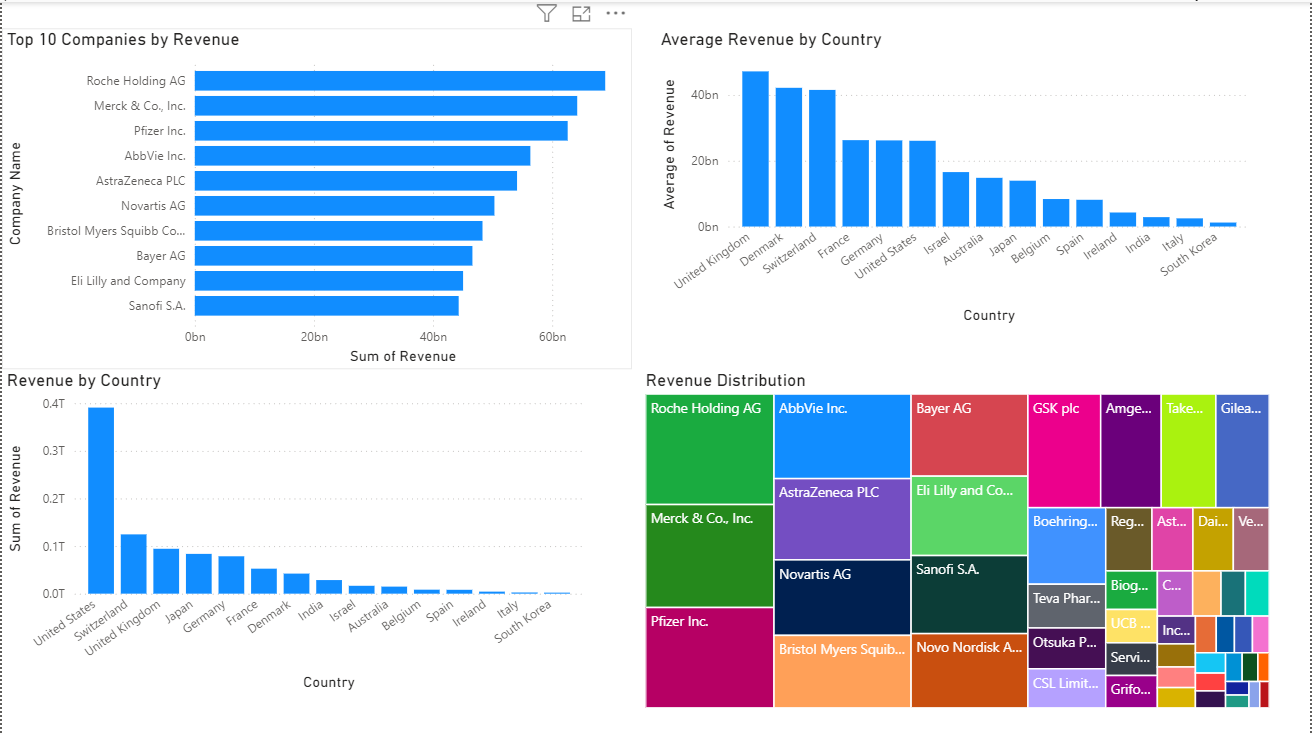

What the dashboard file says about the page in this screenshot:
{"tool":"powerbi","page":{"name":"Revenue Analysis","canvas":[1280,720],"ordinal":1},"visuals":[{"type":"columnChart","title":"Revenue by Country","fields":{"Category":["Validated_PCMRT_Main_Dataset.Country"],"Y":["Sum(Validated_PCMRT_Main_Dataset.Revenue)"]},"box":[0,360.1,573.9,319.3],"z":0},{"type":"clusteredColumnChart","title":"Average Revenue by Country","fields":{"Category":["Validated_PCMRT_Main_Dataset.Country"],"Y":["Avg(Validated_PCMRT_Main_Dataset.Revenue)"]},"box":[640,25.3,586.5,294],"z":1000},{"type":"clusteredBarChart","title":"Top 10 Companies by Revenue","fields":{"Category":["Validated_PCMRT_Main_Dataset.Company Name"],"Y":["Sum(Validated_PCMRT_Main_Dataset.Revenue)"]},"box":[0,25.7,615.7,334.3],"z":2000},{"type":"treemap","title":"Revenue Distribution","fields":{"Group":["Validated_PCMRT_Main_Dataset.Company Name"],"Values":["Sum(Validated_PCMRT_Main_Dataset.Revenue)"]},"box":[625,360,620,336.2],"z":3000}]}

Visuals, with their boxes in screenshot pixels (x1, y1, x2, y2), scaled from the page's 1280x720 canvas onto the 1312x735 screenshot:
"Revenue by Country" columnChart: [0,368,588,694]
"Average Revenue by Country" clusteredColumnChart: [656,26,1257,326]
"Top 10 Companies by Revenue" clusteredBarChart: [0,26,631,368]
"Revenue Distribution" treemap: [641,368,1276,711]
